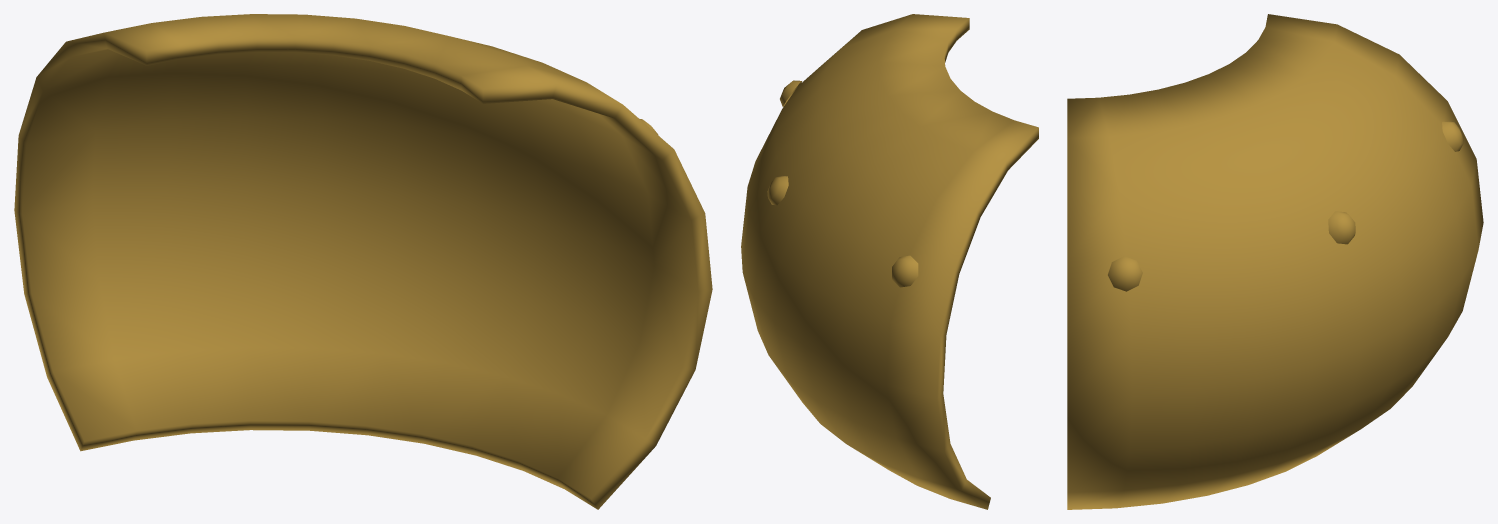
The model's file is corner_cap.glb.
3 views of the same model, side by side, from view 1: azimuth 30°, elevation 25°; view 2: azimuth 150°, elevation 25°; view 3: azimuth 270°, elevation 25° (orthographic). The views are drawn at different scales.
Visible parts, largest first — view 1: corner_cap; view 2: corner_cap; view 3: corner_cap.
Boxes of the visible parts, bbox=[...] form: corner_cap: bbox=[14, 14, 712, 509]; corner_cap: bbox=[741, 14, 1038, 509]; corner_cap: bbox=[1067, 14, 1483, 509].
Size of the model in its own units: 0.1868 by 0.181 by 0.1868.
